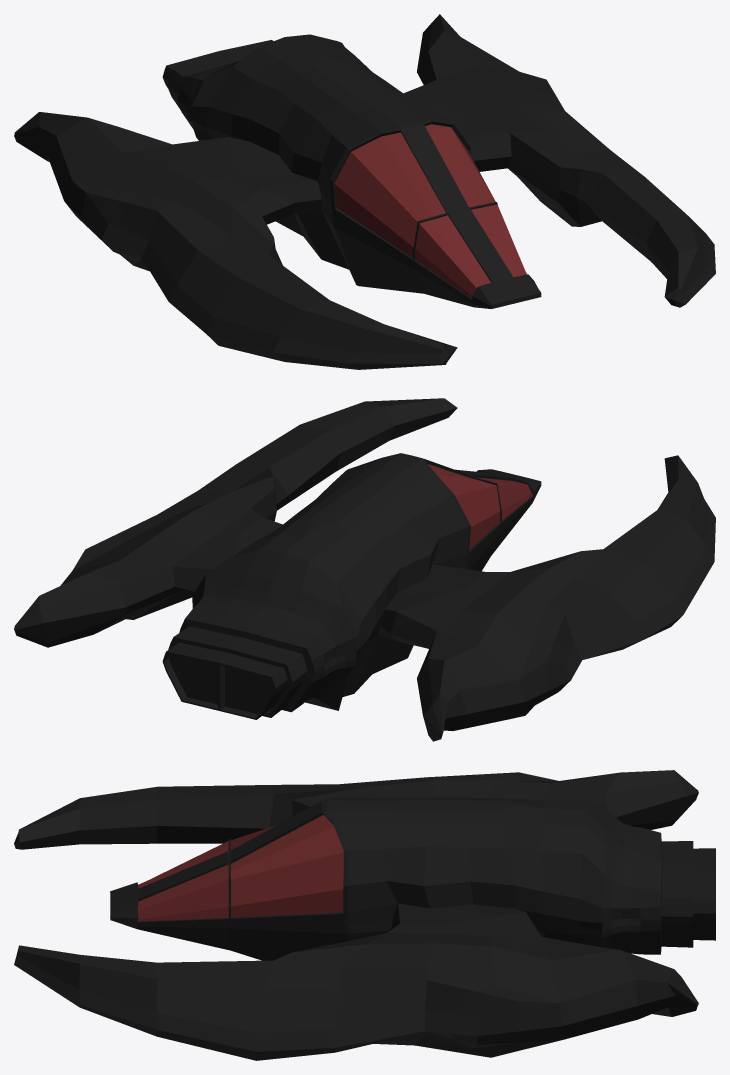
Rendered from Spaceship.fbx.
3 views of the same model, one above another, from view 1: azimuth 30°, elevation 25°; view 2: azimuth 150°, elevation 25°; view 3: azimuth 270°, elevation 25° (orthographic).
Parts seen in each view (by area): view 1: Cube; view 2: Cube; view 3: Cube.
Part boxes in pixels (x1,y1,x2,y2): Cube: (14, 14, 715, 369); Cube: (14, 398, 715, 741); Cube: (14, 770, 715, 1060).
Bounding box in the file's own units: 1068 × 339 × 1336.
